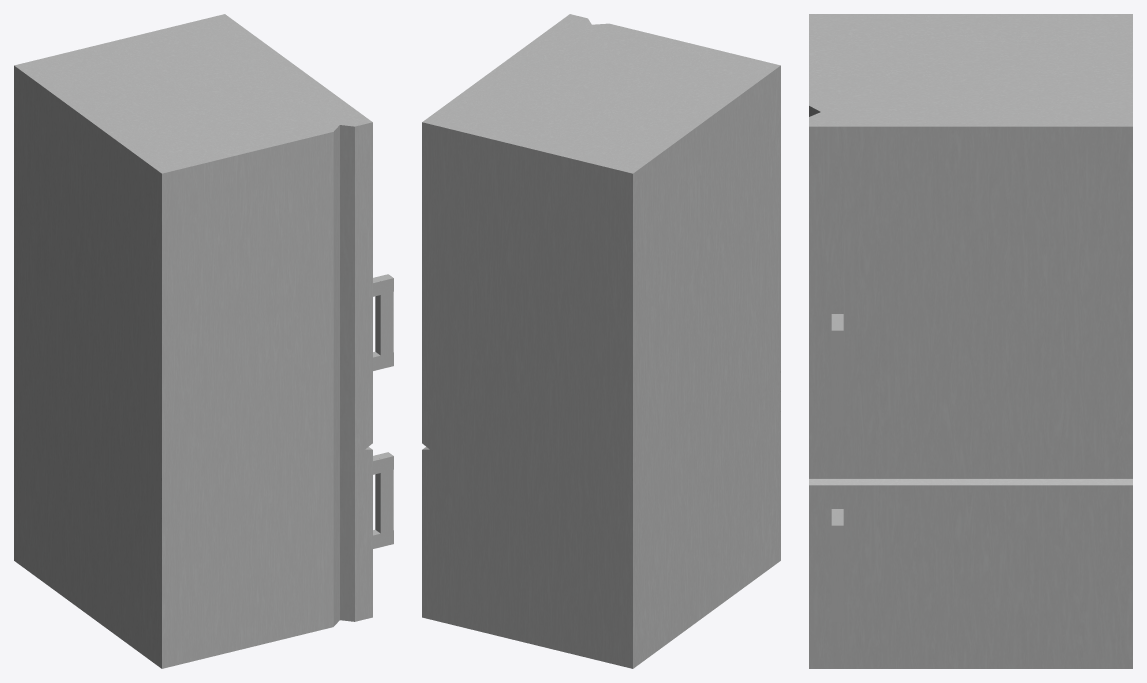
File: Fridge.fbx
3 views of the same model, side by side, from view 1: azimuth 30°, elevation 25°; view 2: azimuth 150°, elevation 25°; view 3: azimuth 270°, elevation 25° (orthographic). The views are drawn at different scales.
Visible parts, largest first — view 1: Cube, Cube.003, Cube.006; view 2: Cube; view 3: Cube, Cube.003, Cube.006.
Boxes of the visible parts, bbox=[...] form: Cube: bbox=[14, 14, 372, 668]; Cube.003: bbox=[375, 274, 393, 367]; Cube.006: bbox=[375, 452, 393, 544]; Cube: bbox=[422, 14, 780, 668]; Cube: bbox=[809, 14, 1132, 668]; Cube.003: bbox=[831, 323, 843, 411]; Cube.006: bbox=[831, 518, 843, 606].
Size of the model in its own units: 230 by 449 by 243.
Materials: 1 (1 with a texture image).
